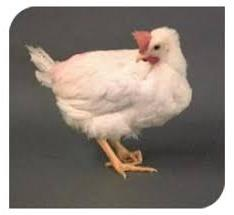AbNormal: (131, 28, 153, 51)
